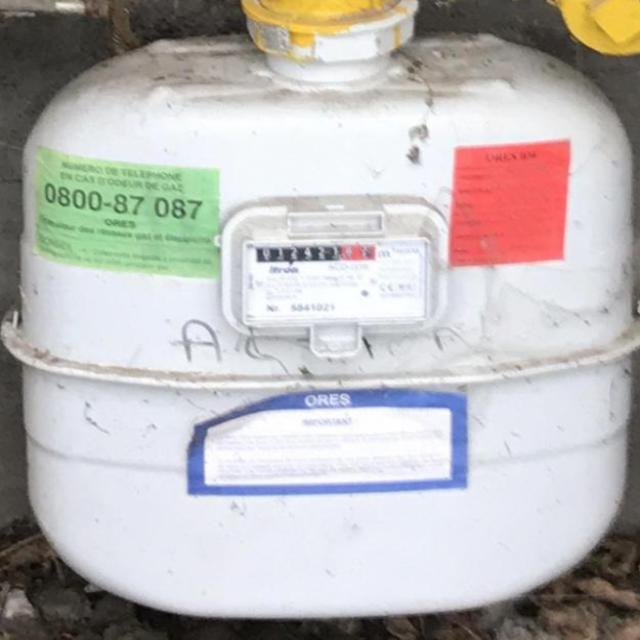gaz_meter: (239, 236, 428, 320)
indication: (254, 238, 378, 266)
